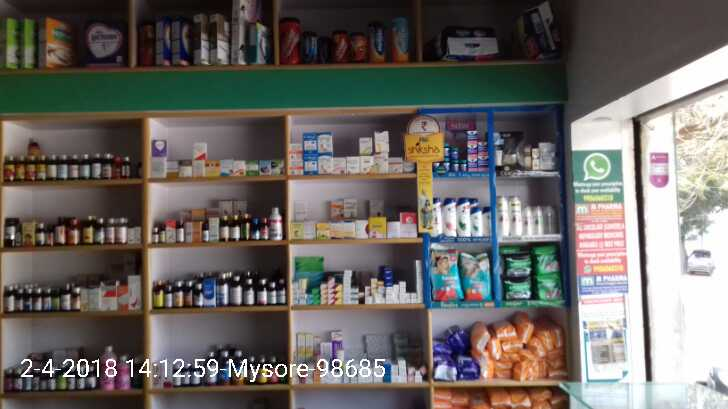vicks: (432, 128, 490, 175)
